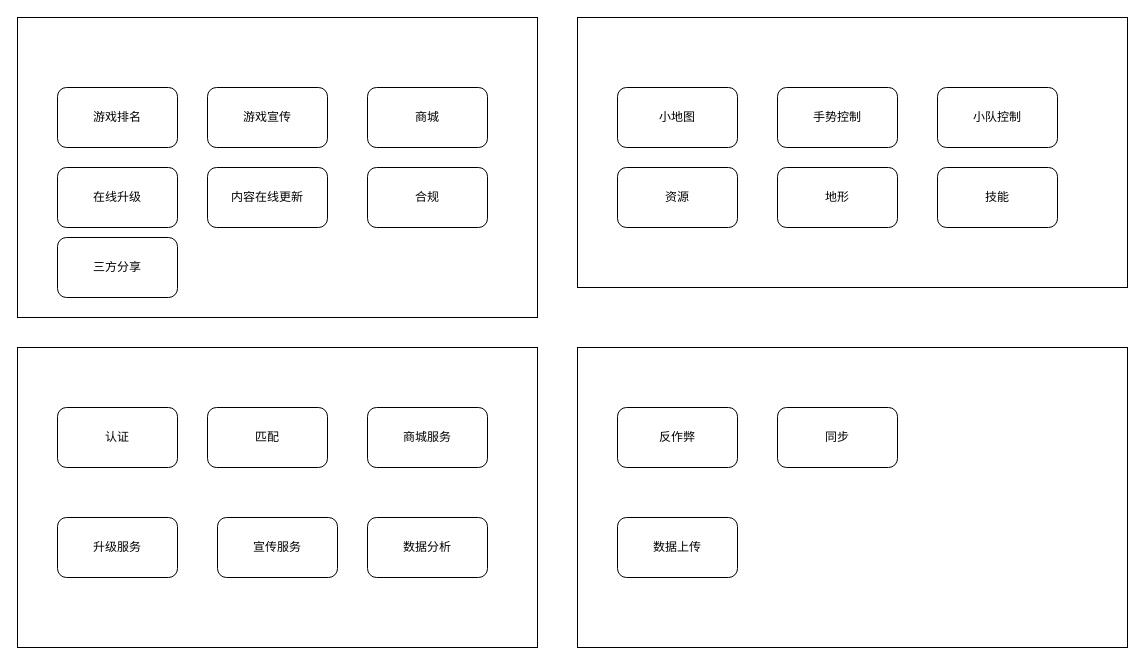
This 1145x665 diagram has some shape labels left out. Here are the shapes that lost their labels. From the top down, the box of each, then its label:
(16, 16, 538, 318): 游戏生活
(576, 16, 1128, 288): 游戏
(16, 346, 538, 648): TCP
(576, 346, 1128, 648): UDP
